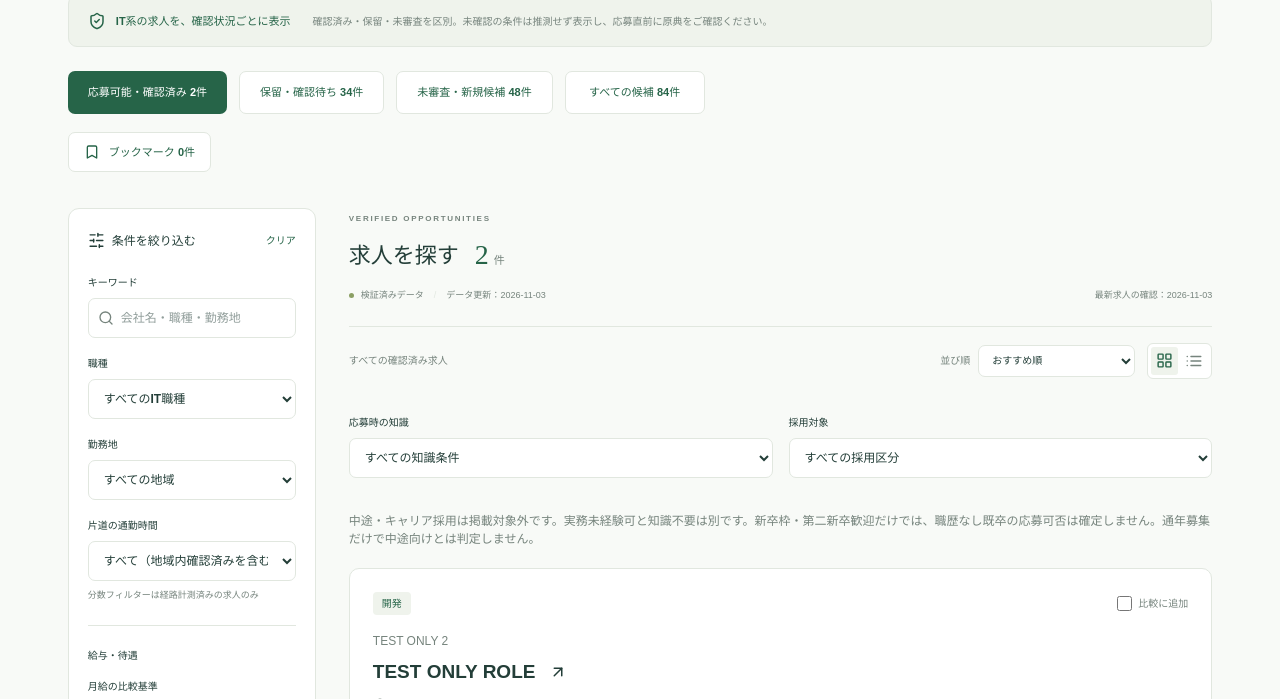
Test: supports search, URL state, table toggle and unknown salary display
(page scrolled)
Click the button named "表表示": x=1194, y=361 x1=1180 y1=347 x2=1208 y2=375
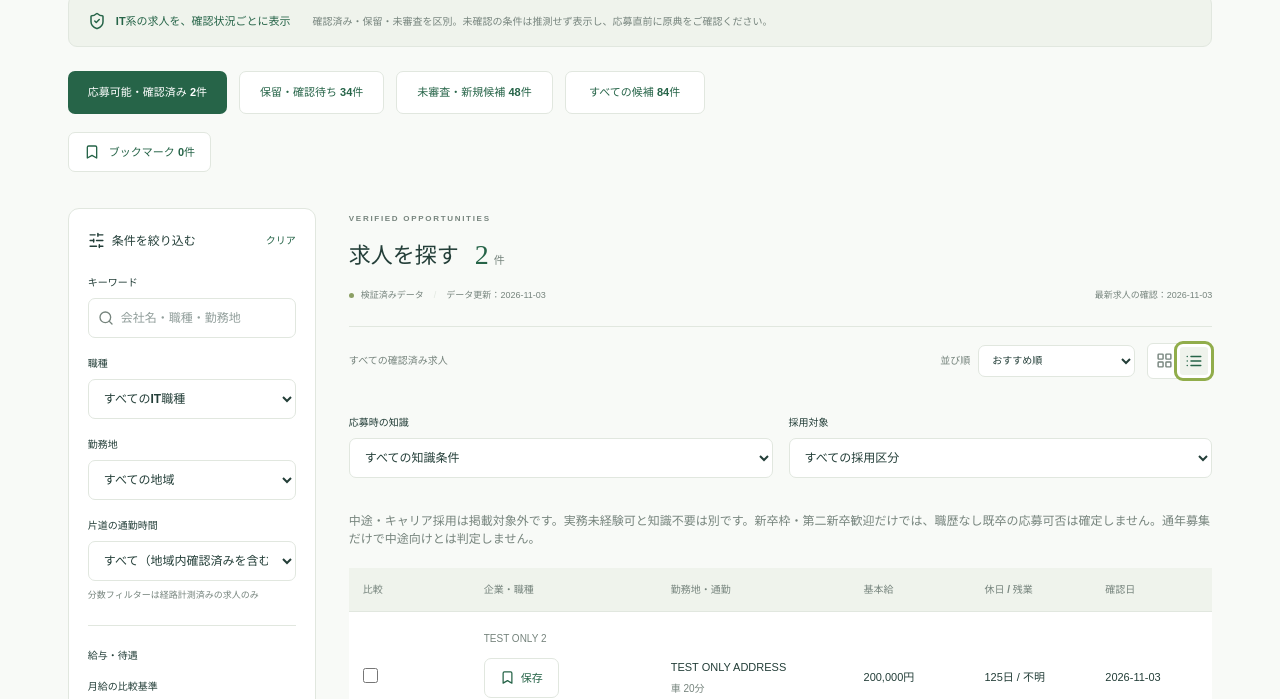
In the field with placeholder "会社名・職種・勤務地": x=192, y=318 x1=88 y1=298 x2=296 y2=338, type "TEST ONLY 1"
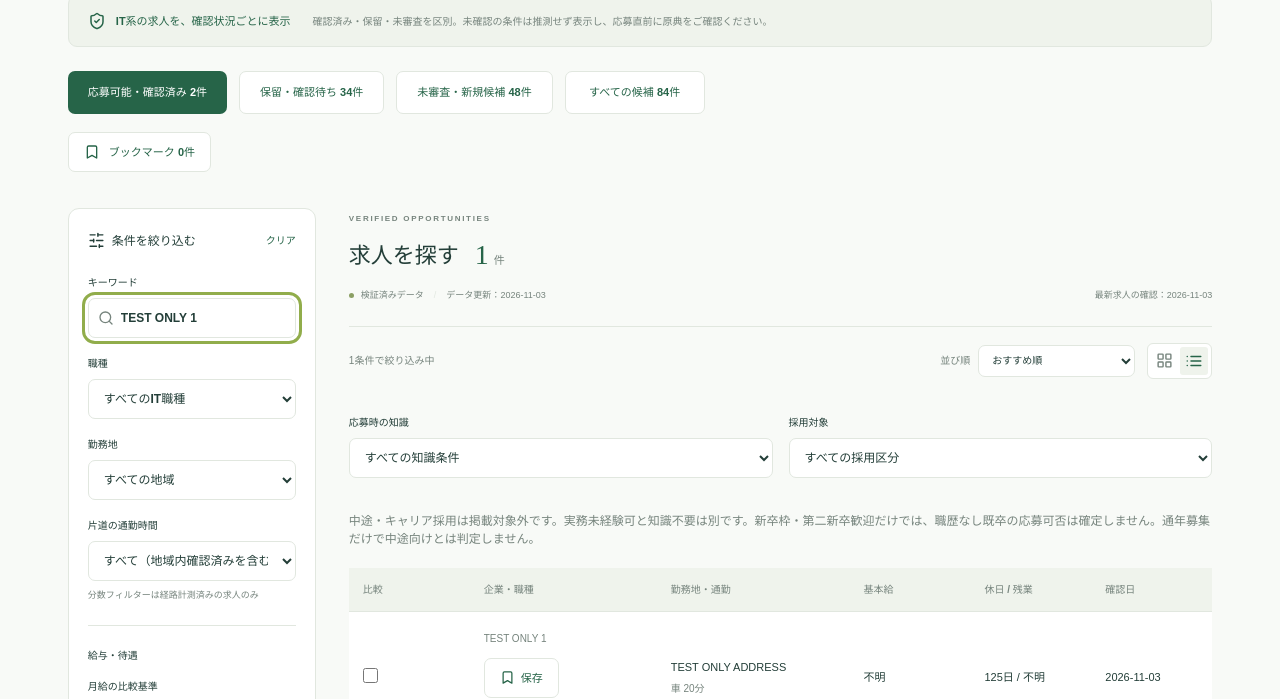
Expected: the text "TEST ONLY 2" is gone
